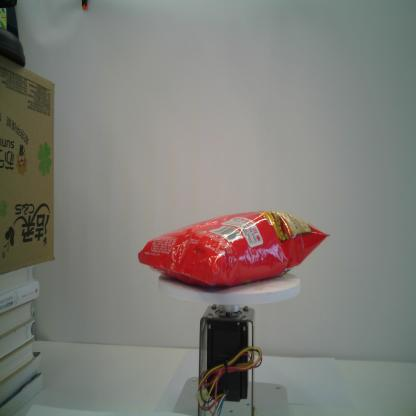Puffed Food: (138, 209, 332, 291)
